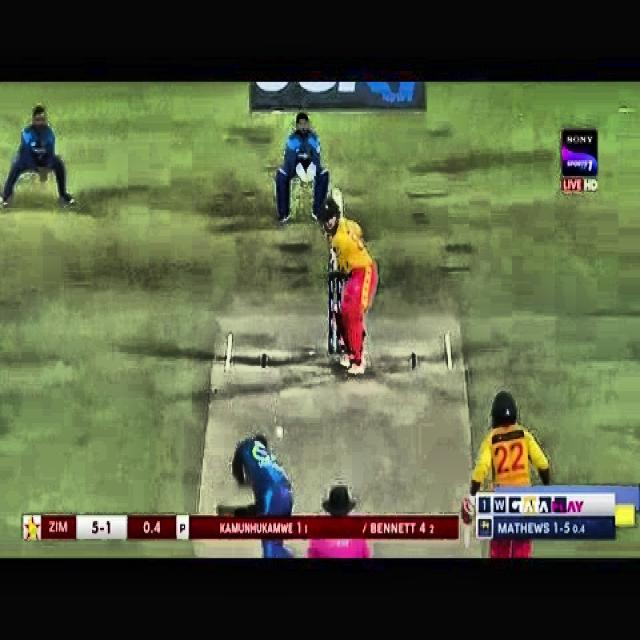Left-stump: (329, 279, 333, 354)
Middle-stump: (337, 324, 341, 353)
